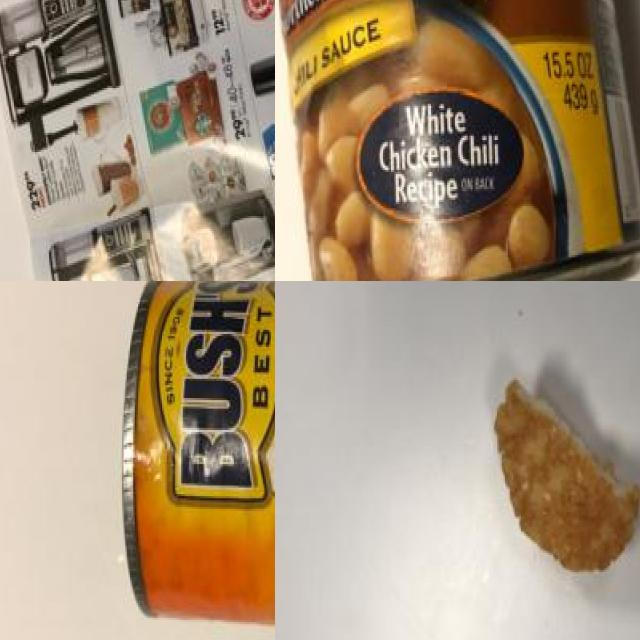compost: (475, 358, 640, 589)
paper: (0, 0, 275, 281)
plastic: (275, 0, 640, 281), (120, 281, 275, 640)
